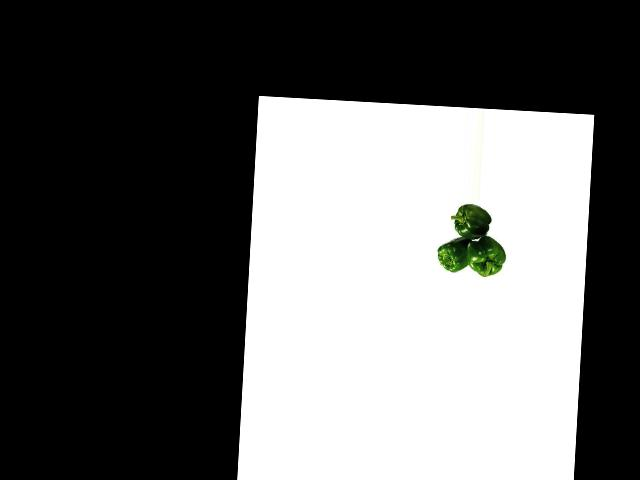bell_pepper: (464, 235, 510, 281)
